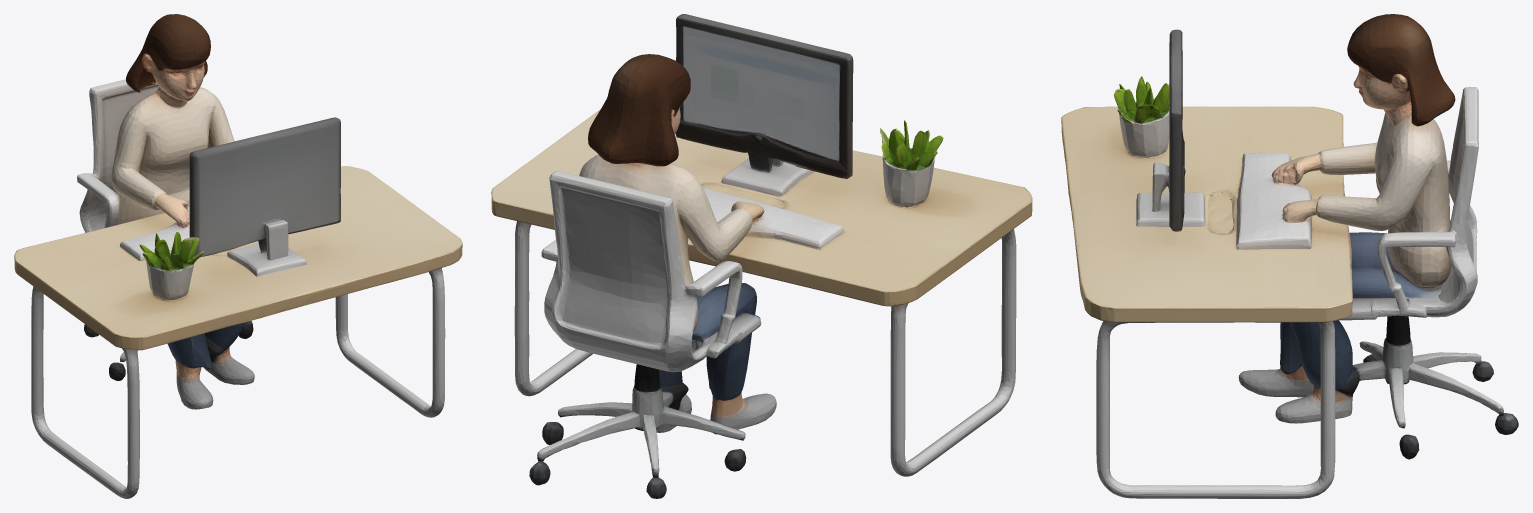
3 views of the same model, side by side, from view 1: azimuth 30°, elevation 25°; view 2: azimuth 150°, elevation 25°; view 3: azimuth 270°, elevation 25° (orthographic). The views are drawn at different scales.
Visible parts, largest first — view 1: world; view 2: world; view 3: world.
Part boxes in pixels (x1,y1,x2,y2): world: (14,14,462,498); world: (491,14,1032,498); world: (1061,14,1518,498).
Bounding box in the file's own units: 1 × 0.9338 × 0.9592.
1 material, 1 textured.
